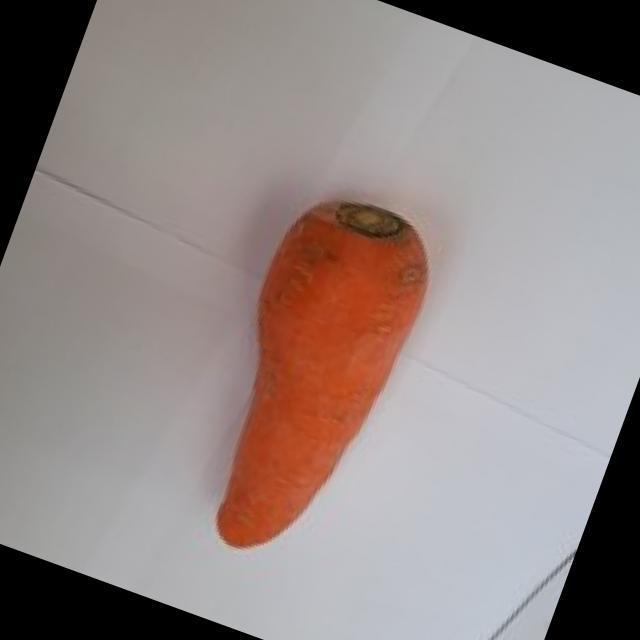Carrot: (218, 201, 428, 547)
